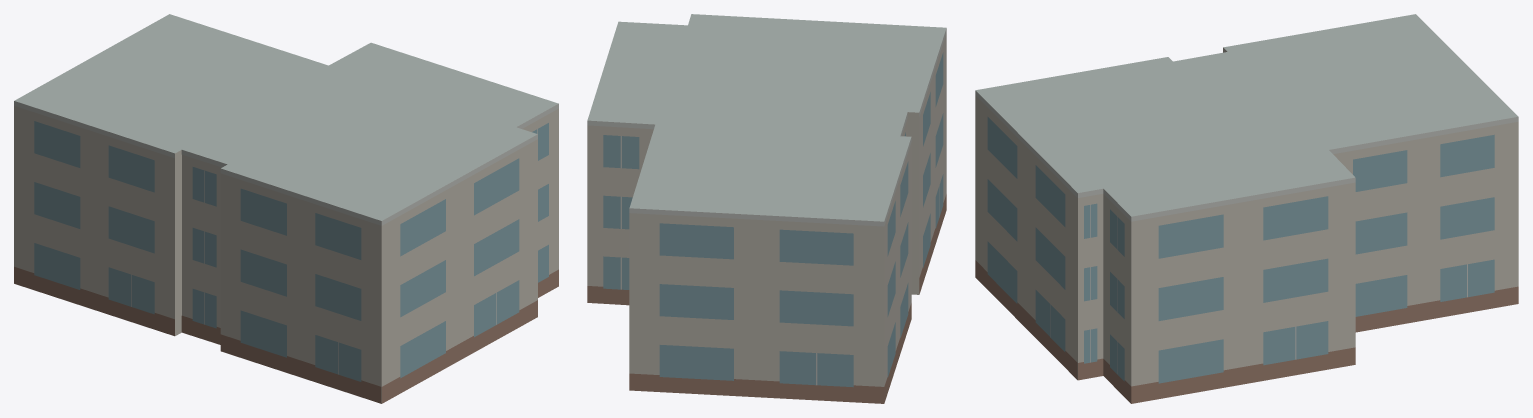
File: survey-upis-32729145.glb
The picture shows the model from 3 angles, left to right: view 1: azimuth 30°, elevation 25°; view 2: azimuth 150°, elevation 25°; view 3: azimuth 270°, elevation 25°; orthographic projection. The views are drawn at different scales.
Parts seen in each view (by area): view 1: survey-upis-32729145.tmp; view 2: survey-upis-32729145.tmp; view 3: survey-upis-32729145.tmp.
Boxes of the visible parts, x1,y1,x2,y2 form: survey-upis-32729145.tmp: (14,14,558,403); survey-upis-32729145.tmp: (587,14,946,403); survey-upis-32729145.tmp: (975,14,1518,403).
Size of the model in its own units: 21.26 by 9.15 by 24.07.
